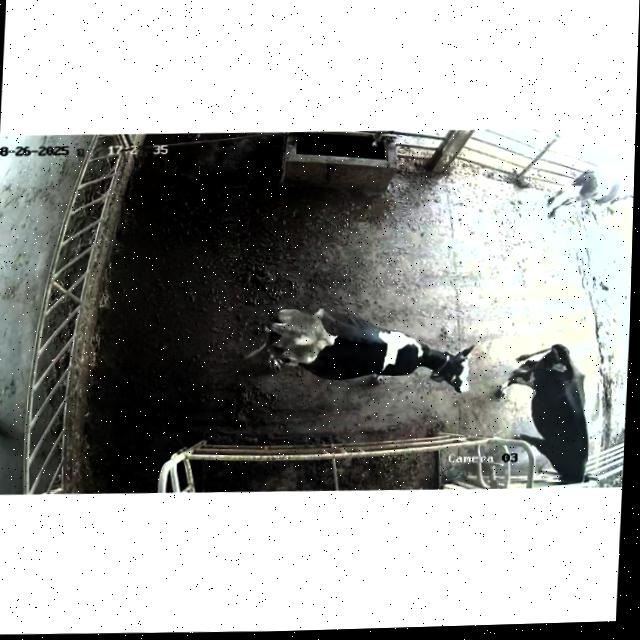stand: (240, 284, 482, 412), (498, 319, 604, 486), (542, 151, 635, 227)
